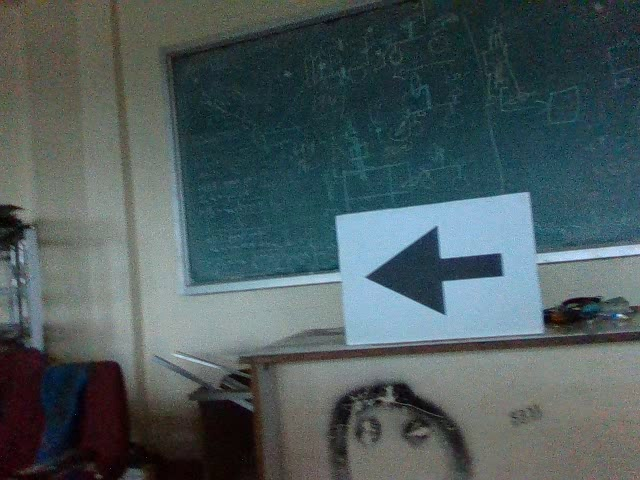Left: (357, 223, 509, 324)
